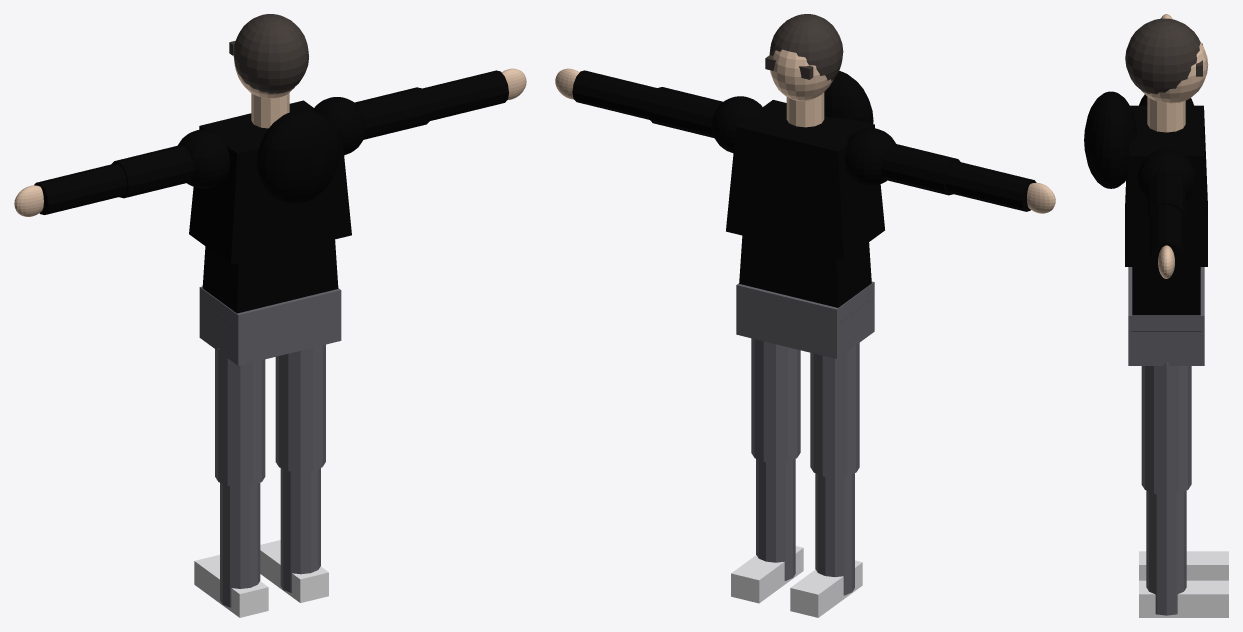
File: character.glb
The picture shows the model from 3 angles, left to right: view 1: azimuth 30°, elevation 25°; view 2: azimuth 150°, elevation 25°; view 3: azimuth 270°, elevation 25°; orthographic projection. The views are drawn at different scales.
Parts seen in each view (by area): view 1: Body, Pants, Hair, Shoes, Skin; view 2: Body, Pants, Shoes, Skin, Hair; view 3: Body, Pants, Hair, Shoes, Skin.
Boxes of the visible parts, x1,y1,x2,y2 form: Body: [34, 70, 508, 313]; Pants: [199, 286, 341, 607]; Hair: [229, 14, 308, 93]; Shoes: [194, 540, 328, 617]; Skin: [14, 56, 526, 216]; Body: [572, 70, 1036, 307]; Pants: [736, 281, 874, 595]; Shoes: [731, 546, 862, 617]; Skin: [555, 49, 1055, 213]; Hair: [765, 14, 843, 80]; Body: [1084, 91, 1207, 331]; Pants: [1128, 267, 1204, 615]; Hair: [1125, 18, 1202, 94]; Shoes: [1139, 551, 1228, 617]; Skin: [1141, 14, 1208, 278].
Size of the model in its own units: 1.69 by 1.83 by 0.418.
Materials: 5 (1 with a texture image).
